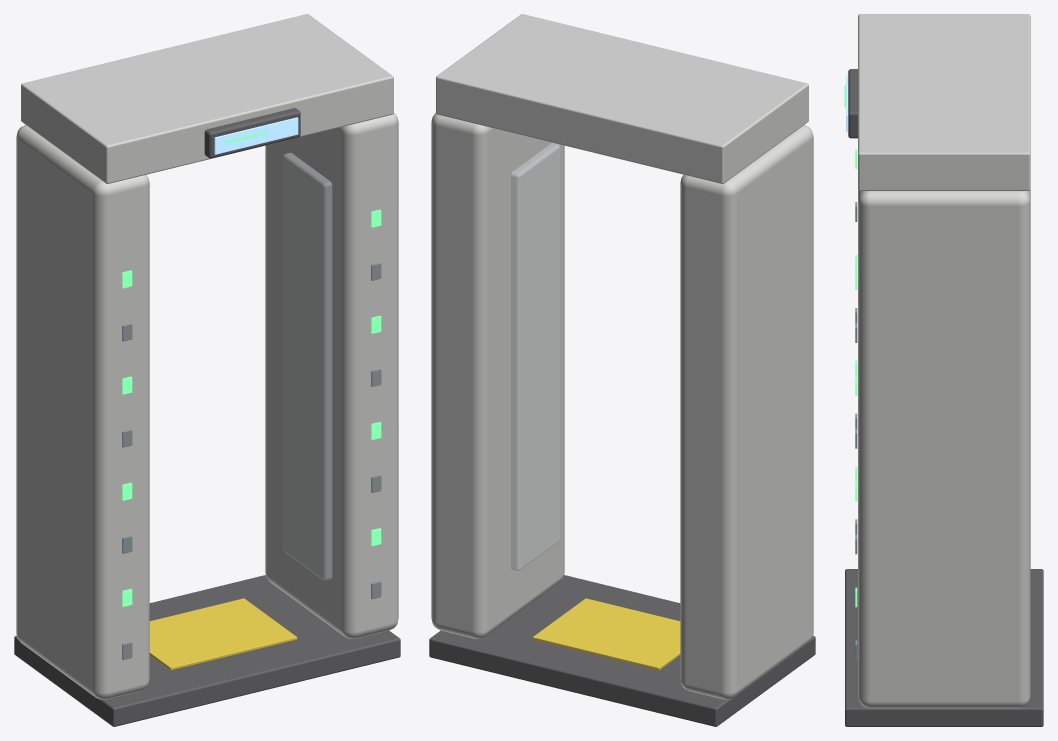
Rendered from prison-complex-builder-body-scanner-96994c48__25640.glb.
3 renders of one model, left to right at view 1: azimuth 30°, elevation 25°; view 2: azimuth 150°, elevation 25°; view 3: azimuth 270°, elevation 25°, orthographic.
Visible parts, largest first — view 1: body-scanner; view 2: body-scanner; view 3: body-scanner.
Part boxes in pixels (<box>): body-scanner: <box>14,14,400,726</box>; body-scanner: <box>429,14,815,726</box>; body-scanner: <box>844,14,1043,726</box>.
Bounding box in the file's own units: 1.32 × 2.39 × 0.7525.
